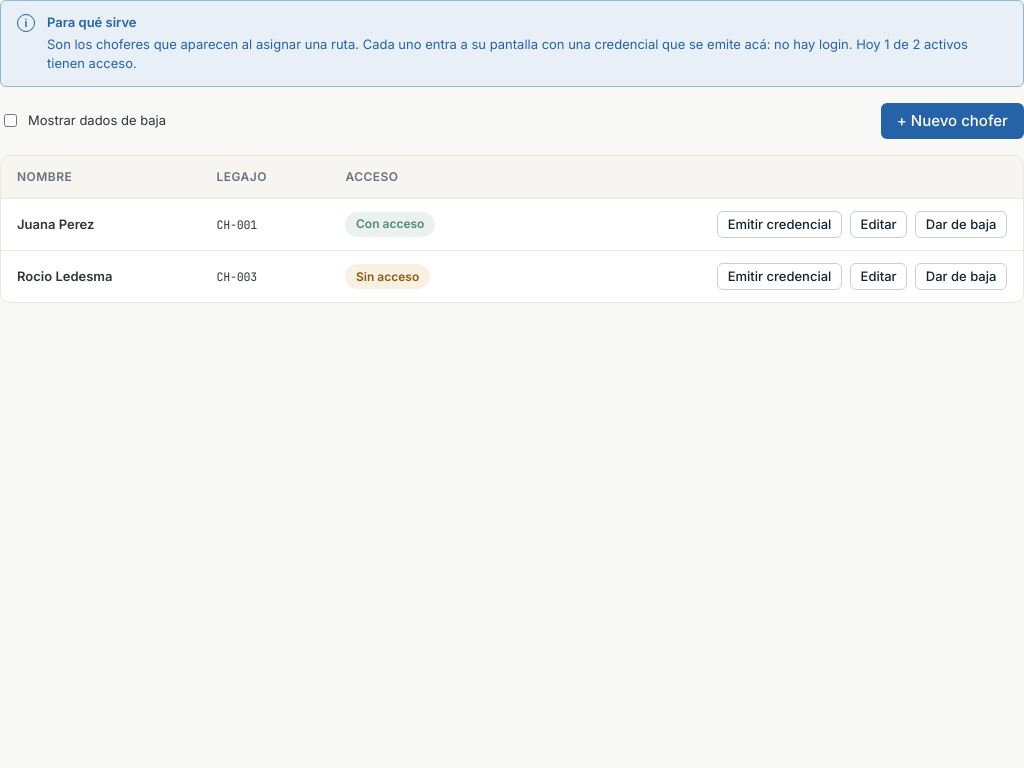
Test: CU-09 · choferes › los errores de validacion van debajo del campo que los causo
Step 1. Click the button "+ Nuevo chofer" → (952, 121), box [881,103,1023,139]
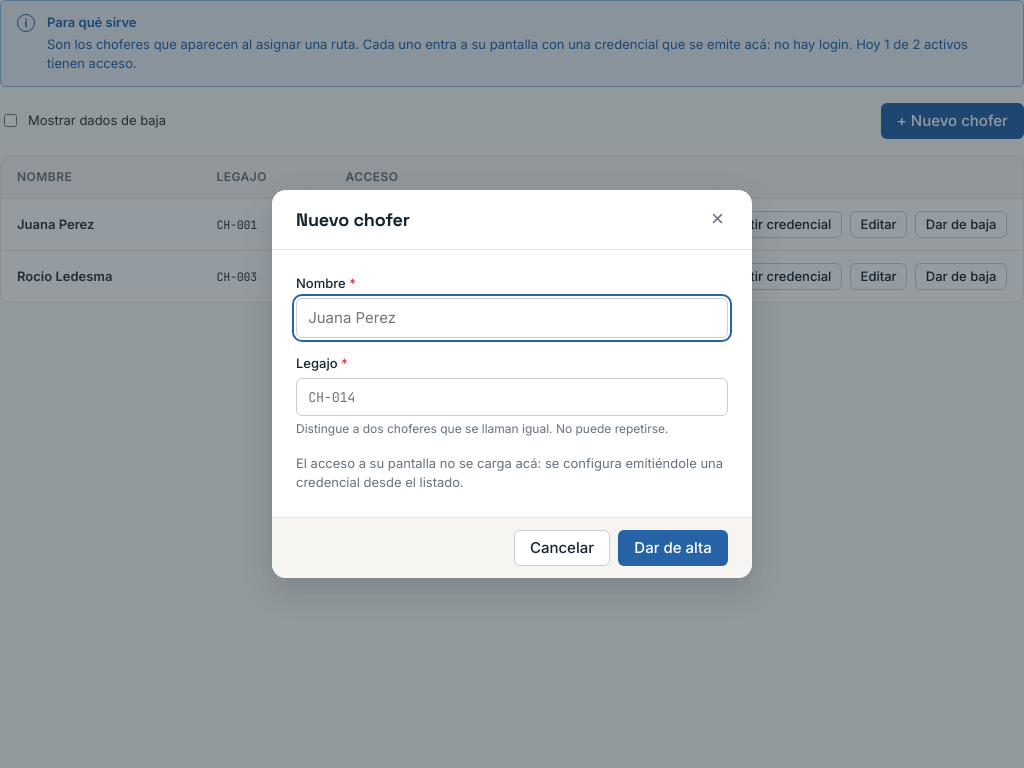
Step 2. Type "Ana Ruiz" into the field labelled "Nombre *" → (512, 318), box [296,298,728,338]
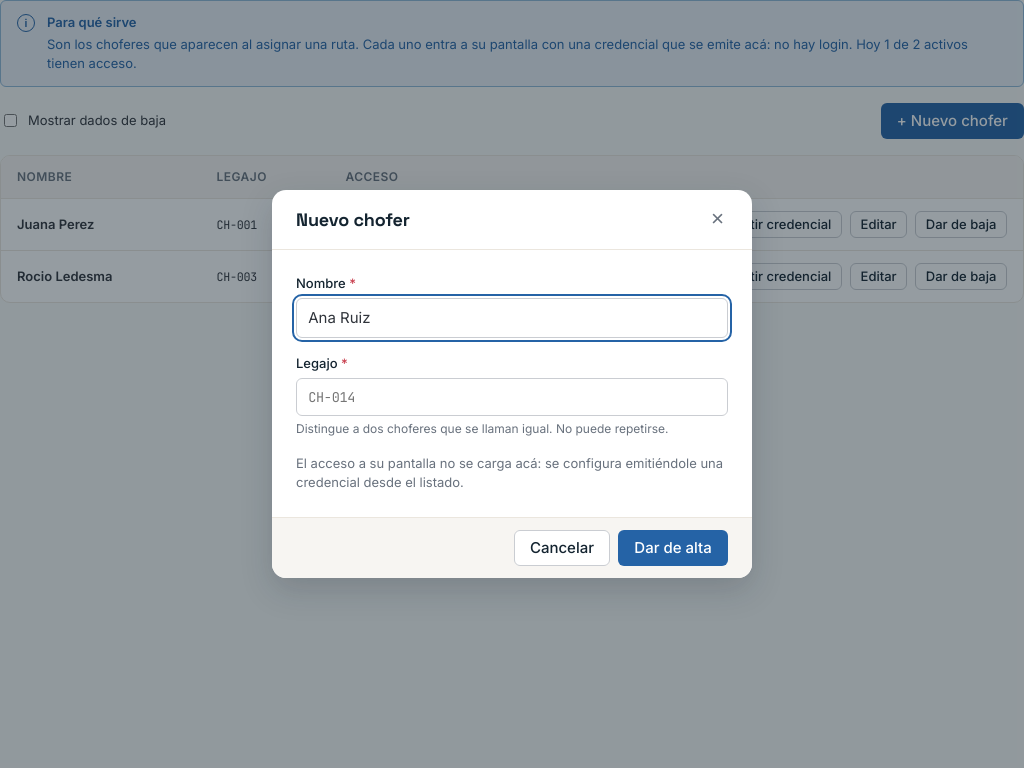
Step 3. Type "C" into the field labelled "Legajo *" → (512, 397), box [296,378,728,416]
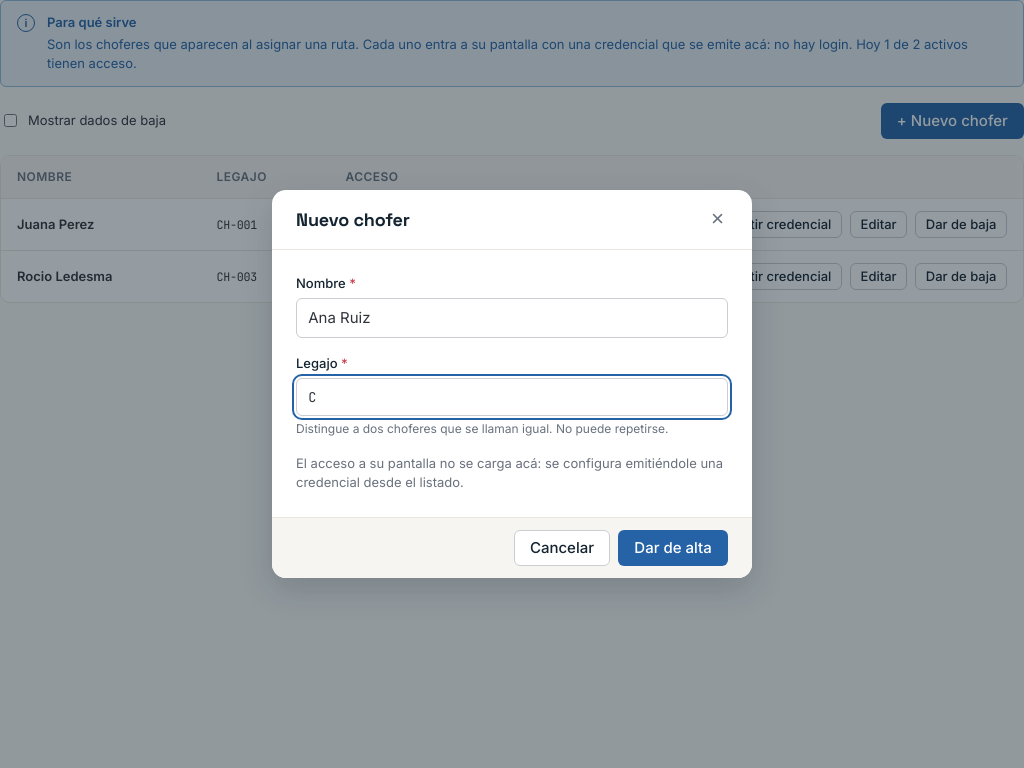
Step 4. Click the button "Dar de alta" → (673, 548), box [618,530,728,566]
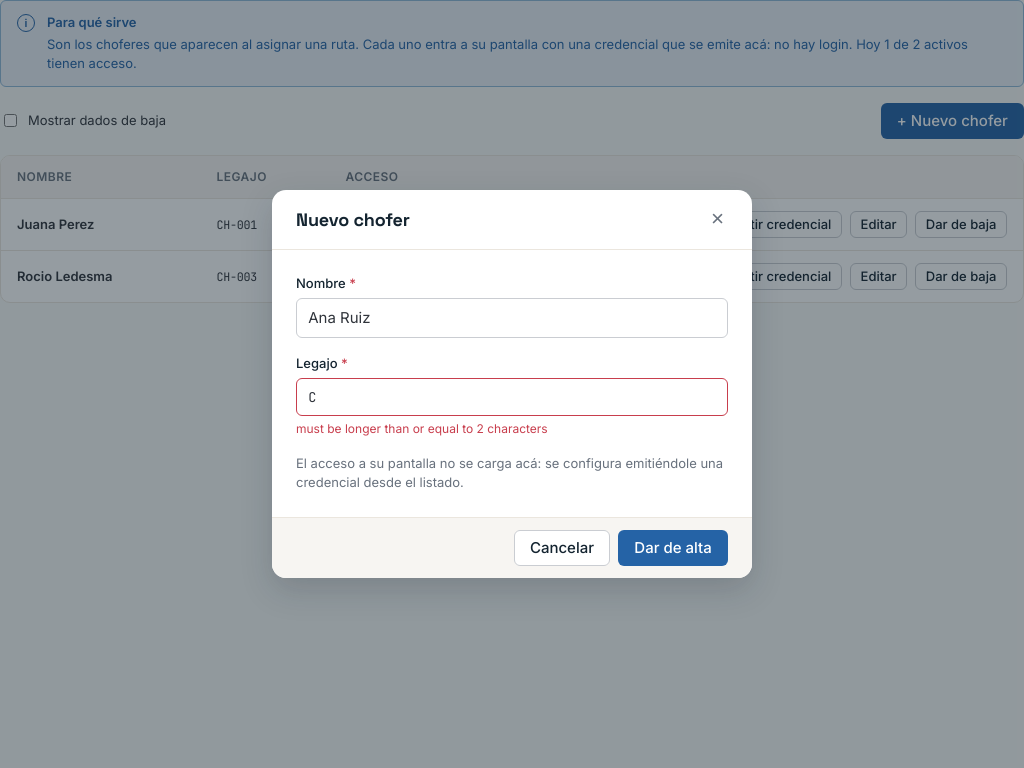
expect the text "must be longer than or equal to 2 characters" is shown: met, box [296,421,548,436]
